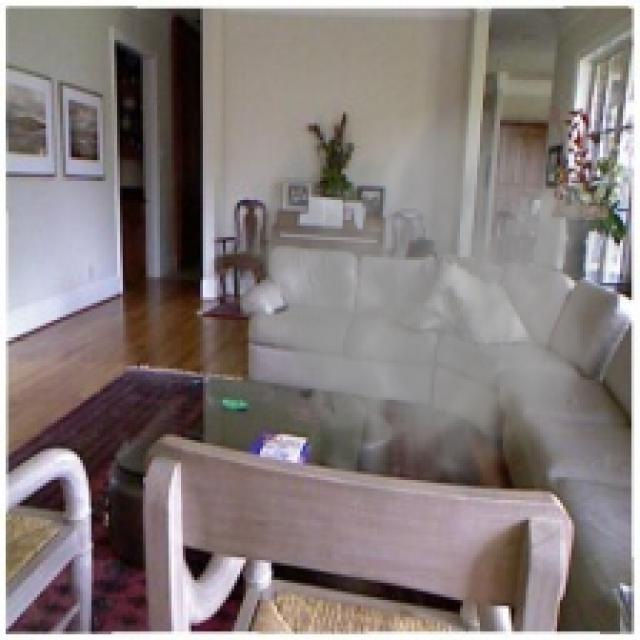smoke: (220, 92, 614, 517)
